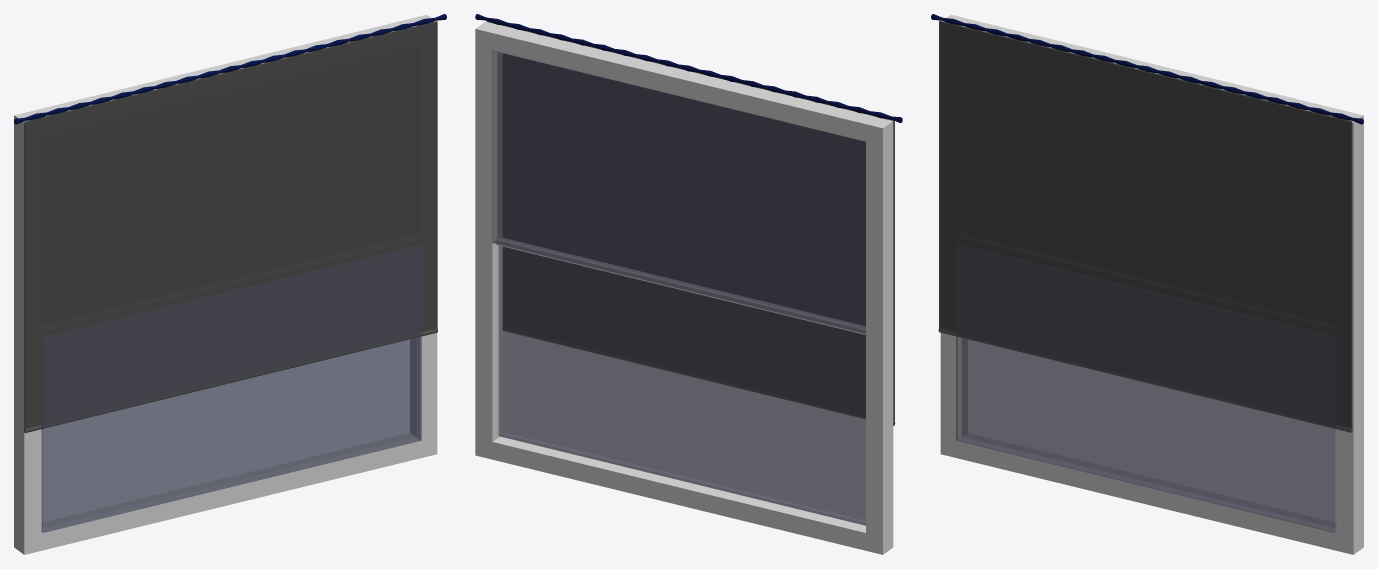
The model's file is Window with Mid Curtain.fbx.
3 views of the same model, side by side, from view 1: azimuth 30°, elevation 25°; view 2: azimuth 150°, elevation 25°; view 3: azimuth 330°, elevation 25° (orthographic).
Visible parts, largest first — view 1: Dark_Curtain, Window2, Windo_frame, Curtain_handle; view 2: Dark_Curtain, Window, Window2, Windo_frame, Window1, Curtain_handle; view 3: Dark_Curtain, Window2, Windo_frame, Curtain_handle.
Part boxes in pixels (left/top/right/bottom): Dark_Curtain: left=24, top=21, right=437, bottom=432; Window2: left=41, top=245, right=421, bottom=532; Windo_frame: left=14, top=14, right=437, bottom=554; Curtain_handle: left=14, top=14, right=446, bottom=124; Dark_Curtain: left=486, top=21, right=895, bottom=425; Window: left=492, top=50, right=865, bottom=333; Window2: left=498, top=246, right=865, bottom=525; Windo_frame: left=475, top=21, right=893, bottom=554; Window1: left=496, top=237, right=865, bottom=334; Curtain_handle: left=475, top=14, right=902, bottom=122; Dark_Curtain: left=938, top=20, right=1352, bottom=432; Window2: left=956, top=245, right=1336, bottom=532; Windo_frame: left=940, top=14, right=1363, bottom=554; Curtain_handle: left=931, top=14, right=1363, bottom=124.
Bounding box in the file's own units: 8.61 × 8.36 × 0.423.
